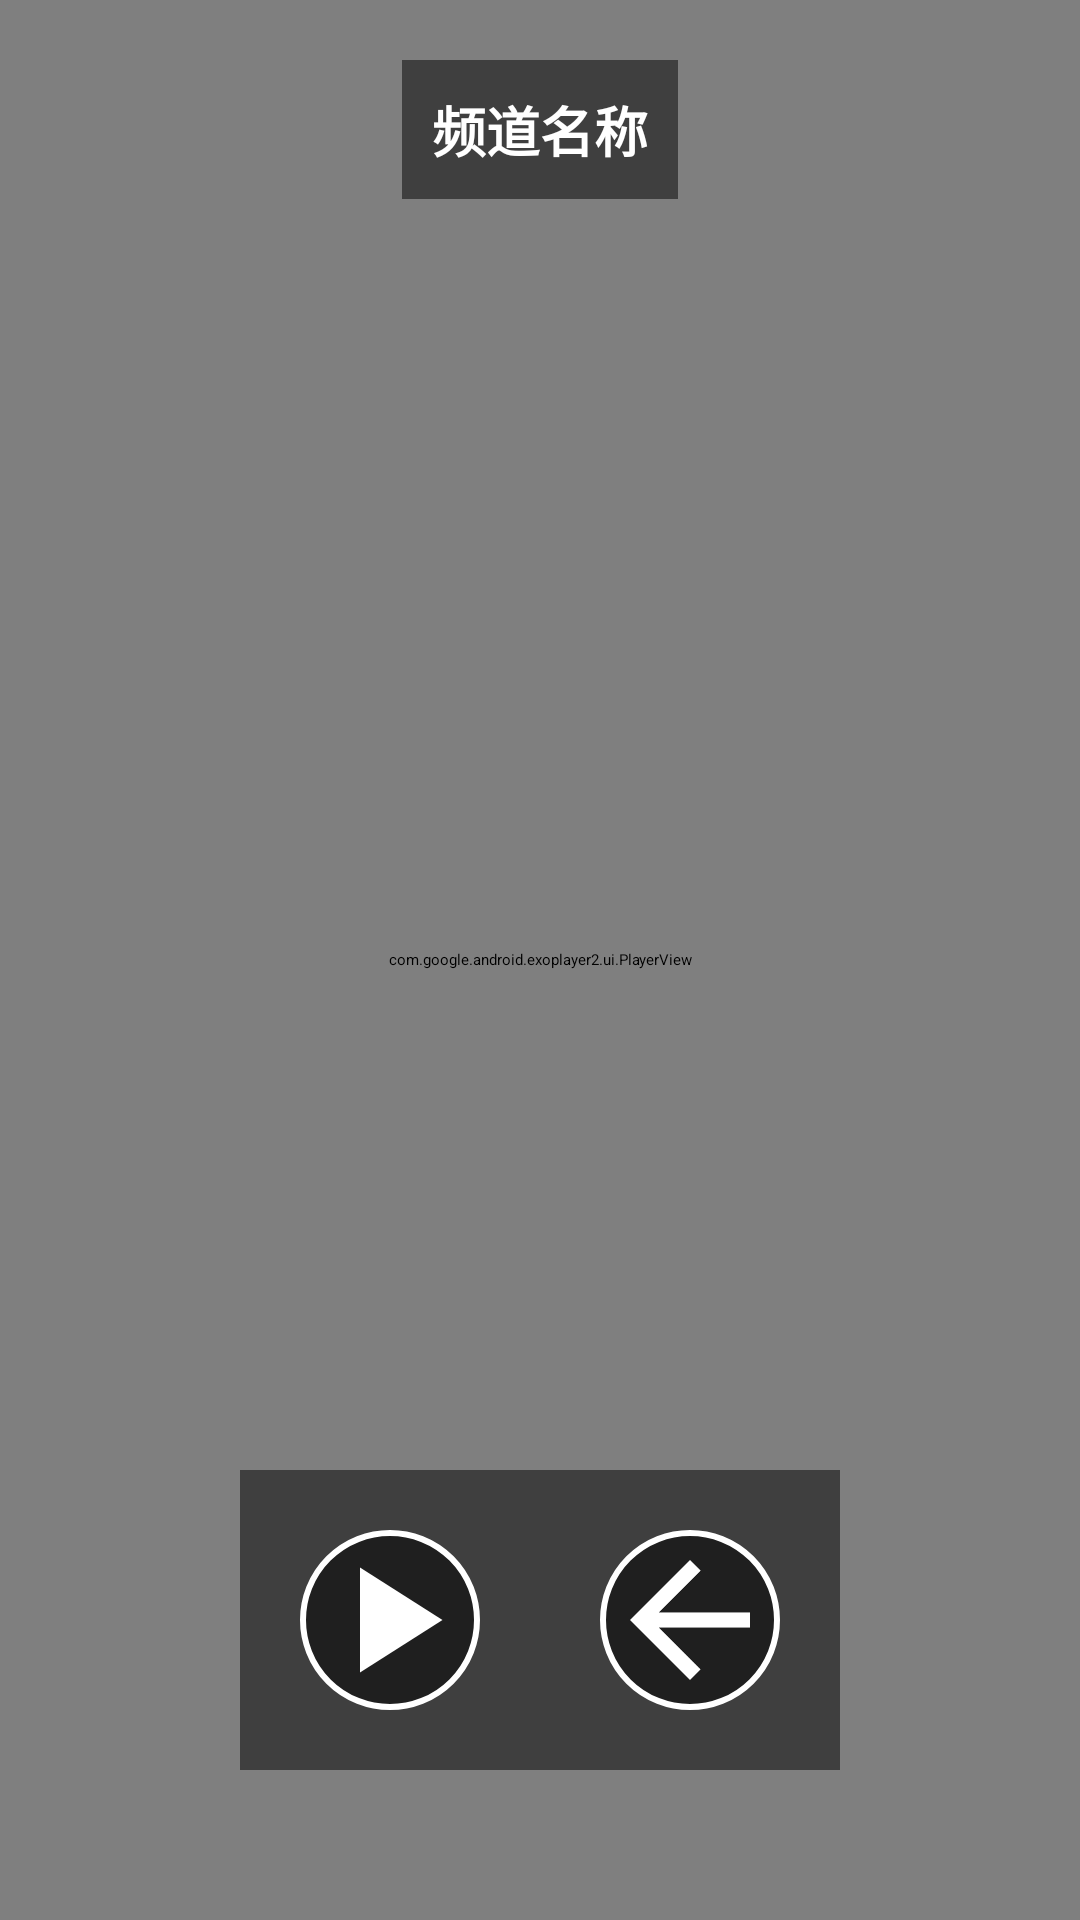

Where to tap for icons on this 1080×1920 app screen, as point (x, y):
播放/暂停: point (390, 1620)
返回: point (690, 1620)
